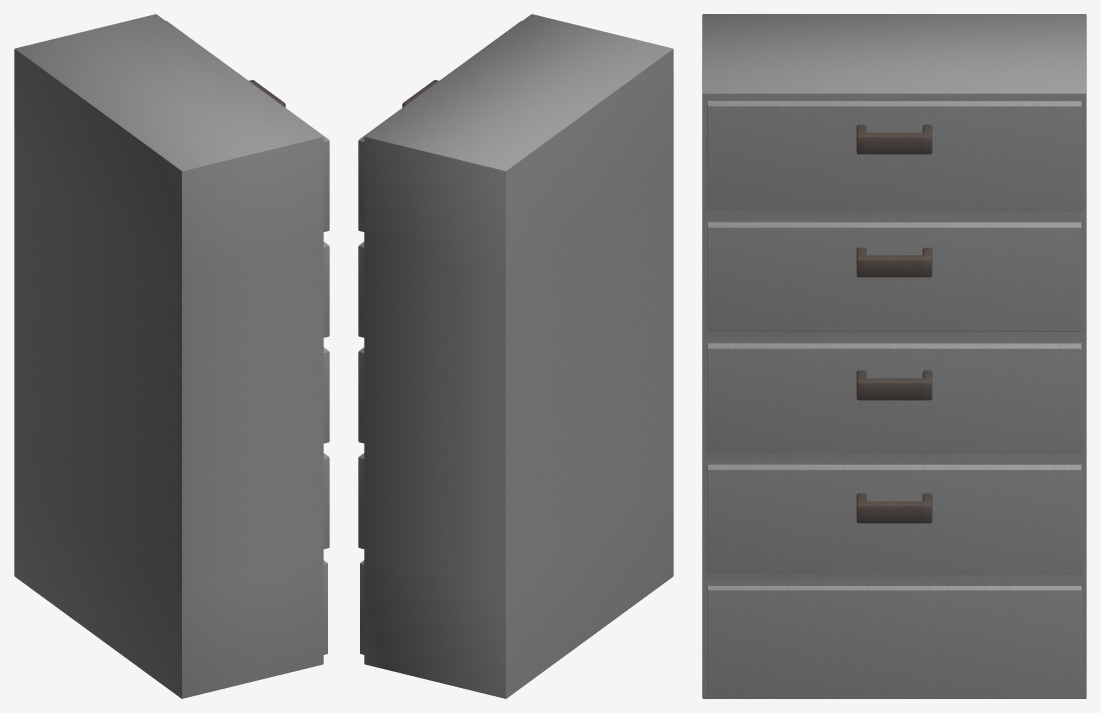
The model's file is filingCabinet.glb.
3 views of the same model, side by side, from view 1: azimuth 30°, elevation 25°; view 2: azimuth 150°, elevation 25°; view 3: azimuth 270°, elevation 25° (orthographic). The views are drawn at different scales.
Parts seen in each view (by area): view 1: handle.001; view 2: handle.001; view 3: handle.001.
Part boxes in pixels (<box>): handle.001: <box>14,14,329,698</box>; handle.001: <box>358,14,673,698</box>; handle.001: <box>702,14,1086,698</box>.
Bounding box in the file's own units: 0.7544 × 2.22 × 1.27.
Materials: 2 (2 with a texture image).
